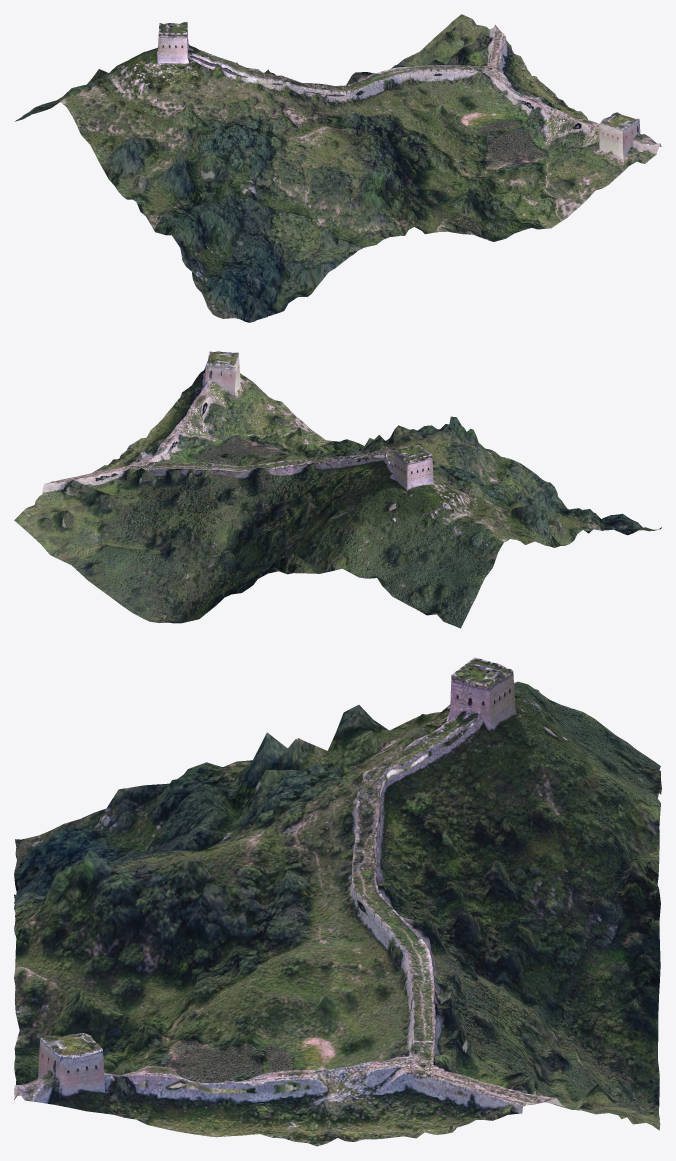
The picture shows the model from 3 angles, top to bottom: view 1: azimuth 30°, elevation 25°; view 2: azimuth 150°, elevation 25°; view 3: azimuth 270°, elevation 25°; orthographic projection. The views are drawn at different scales.
Size of the model in its own units: 184 by 70.2 by 143.
1 material, 1 textured.
